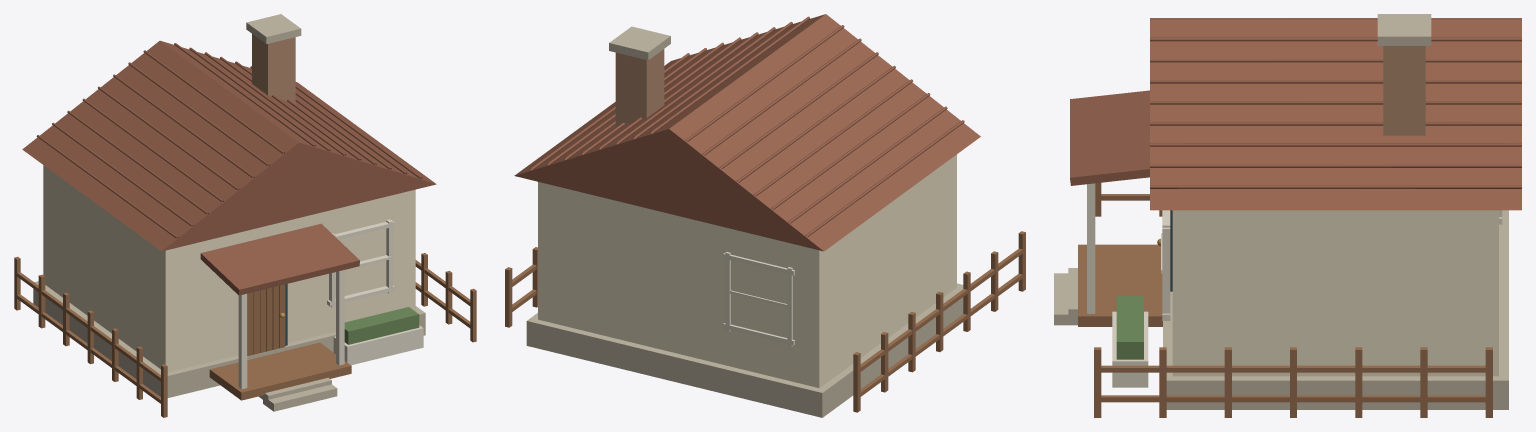
The model's file is cottage_lod.glb.
The picture shows the model from 3 angles, left to right: view 1: azimuth 30°, elevation 25°; view 2: azimuth 150°, elevation 25°; view 3: azimuth 270°, elevation 25°; orthographic projection. The views are drawn at different scales.
Parts seen in each view (by area): view 1: cottage_Gable_Roof, cottage_Limewashed_House, cottage_Porch_Canopy, cottage_Stone_Foundation, cottage_Porch_Deck, cottage_Chimney, cottage_Raised_Planter, cottage_Hedge, cottage_Chimney_Cap, cottage_Entry_Step, cottage_Garden_Rail.001, cottage_Garden_Rail (+22 smaller); view 2: cottage_Limewashed_House, cottage_Gable_Roof, cottage_Stone_Foundation, cottage_Chimney, cottage_Chimney_Cap, cottage_Garden_Rail, cottage_Garden_Rail.001, cottage_Roof_Tile_Course.002, cottage_Roof_Tile_Course.006, cottage_Roof_Tile_Course.007, cottage_Roof_Tile_Course.001, cottage_Roof_Tile_Course (+10 smaller); view 3: cottage_Gable_Roof, cottage_Limewashed_House, cottage_Stone_Foundation, cottage_Porch_Canopy, cottage_Porch_Deck, cottage_Chimney, cottage_Garden_Rail.002, cottage_Garden_Rail.003, cottage_Hedge, cottage_Chimney_Cap, cottage_Roof_Tile_Course.008, cottage_Roof_Tile_Course.013 (+19 smaller).
Part boxes in pixels (x1,y1,x2,y2): cottage_Gable_Roof: (22,40,436,251); cottage_Limewashed_House: (43,165,415,372); cottage_Porch_Canopy: (200,223,359,295); cottage_Stone_Foundation: (33,281,425,397); cottage_Porch_Deck: (209,342,351,400); cottage_Chimney: (252,34,295,103); cottage_Raised_Planter: (333,325,423,365); cottage_Hedge: (344,307,419,344); cottage_Chimney_Cap: (246,14,301,43); cottage_Entry_Step: (263,384,337,411); cottage_Garden_Rail.001: (17,272,160,381); cottage_Garden_Rail: (17,294,160,403); cottage_Limewashed_House: (538,154,956,388); cottage_Gable_Roof: (514,14,980,251); cottage_Stone_Foundation: (526,283,963,417); cottage_Chimney: (615,49,664,127); cottage_Chimney_Cap: (609,26,670,60); cottage_Garden_Rail: (860,273,1022,396); cottage_Garden_Rail.001: (860,248,1022,371); cottage_Roof_Tile_Course.002: (719,52,878,169); cottage_Roof_Tile_Course.006: (788,106,947,223); cottage_Roof_Tile_Course.007: (805,120,964,237); cottage_Roof_Tile_Course.001: (702,38,861,155); cottage_Roof_Tile_Course: (685,25,844,142); cottage_Gable_Roof: (1150,20,1521,210); cottage_Limewashed_House: (1172,210,1498,376); cottage_Stone_Foundation: (1163,210,1508,409); cottage_Porch_Canopy: (1070,90,1149,185); cottage_Porch_Deck: (1078,244,1162,326); cottage_Chimney: (1383,46,1425,135); cottage_Garden_Rail.002: (1101,395,1485,402); cottage_Garden_Rail.003: (1101,365,1485,372); cottage_Hedge: (1116,296,1143,359); cottage_Chimney_Cap: (1377,14,1431,45); cottage_Roof_Tile_Course.008: (1150,37,1521,41); cottage_Roof_Tile_Course.013: (1150,143,1521,146).
Bounding box in the file's own units: 7.39 × 5.83 × 7.17.
